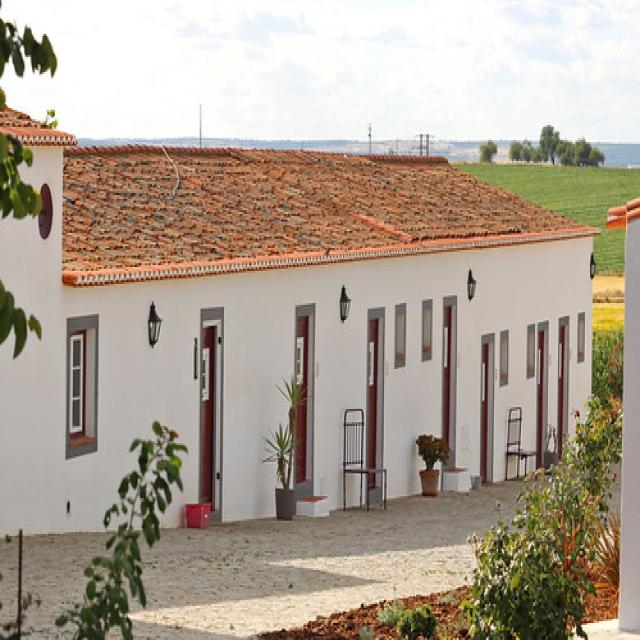building: (0, 103, 599, 539)
